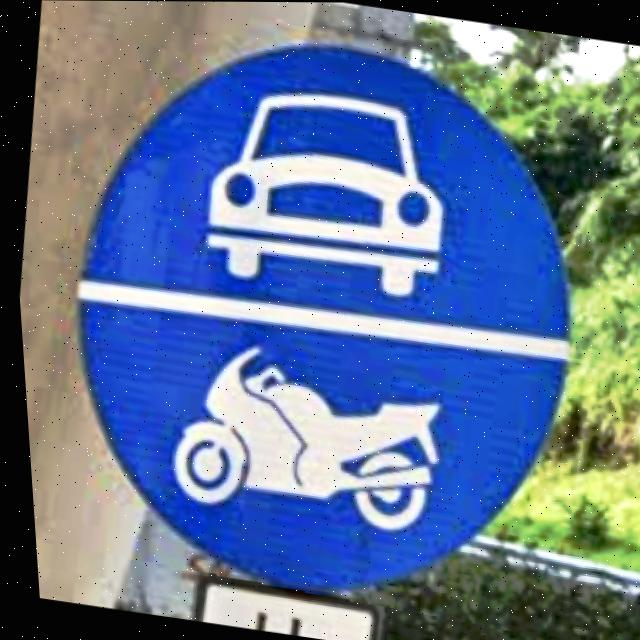carmotorcycle: (74, 45, 564, 589)
